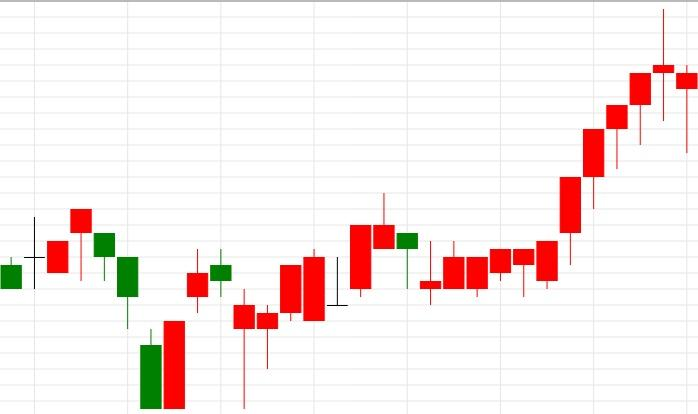bullish_engulfing_rise: (69, 208, 186, 410)
hanging_man_fall: (232, 193, 419, 409), (0, 208, 93, 290)
